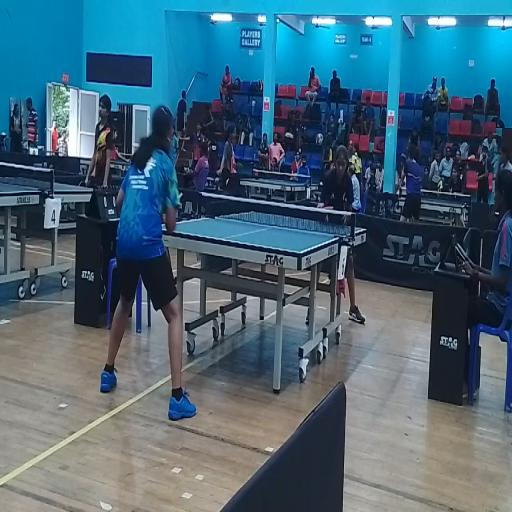ball: (325, 215, 329, 222)
